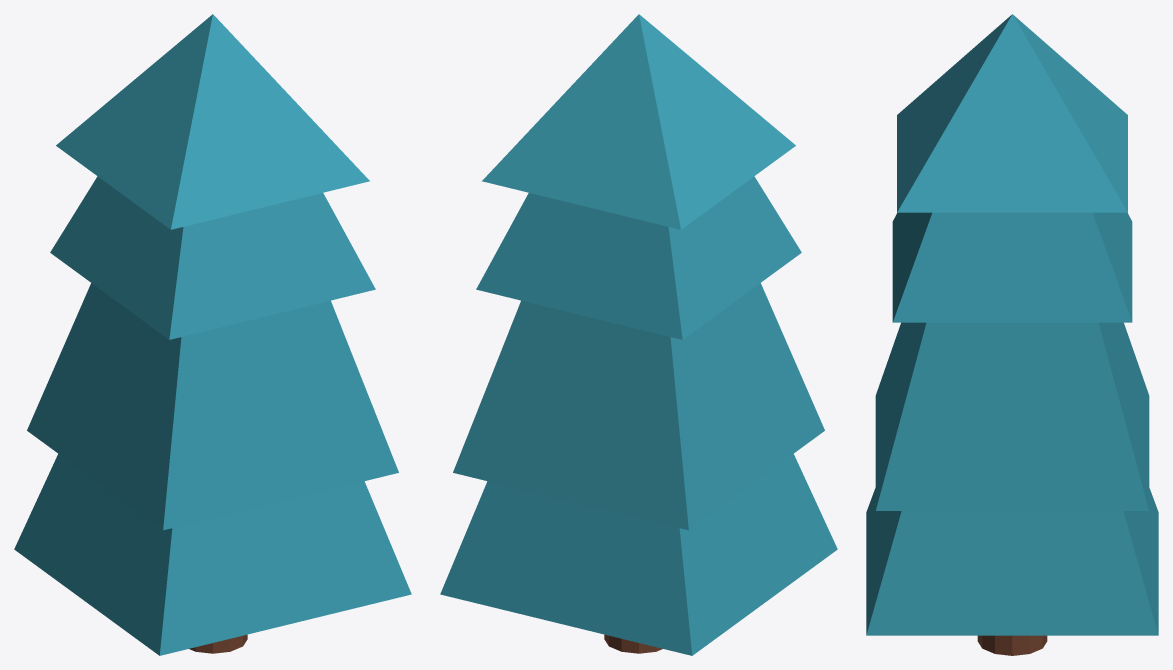
File: Tree_17_summer_blue_vc.fbx
The picture shows the model from 3 angles, left to right: view 1: azimuth 30°, elevation 25°; view 2: azimuth 150°, elevation 25°; view 3: azimuth 270°, elevation 25°; orthographic projection.
Parts seen in each view (by area): view 1: Tree_17_summer_blue_vc; view 2: Tree_17_summer_blue_vc; view 3: Tree_17_summer_blue_vc.
Boxes of the visible parts, x1,y1,x2,y2 form: Tree_17_summer_blue_vc: (14,14,411,655); Tree_17_summer_blue_vc: (440,14,837,655); Tree_17_summer_blue_vc: (866,14,1158,655).
Bounding box in the file's own units: 65.5 × 155 × 65.5.
